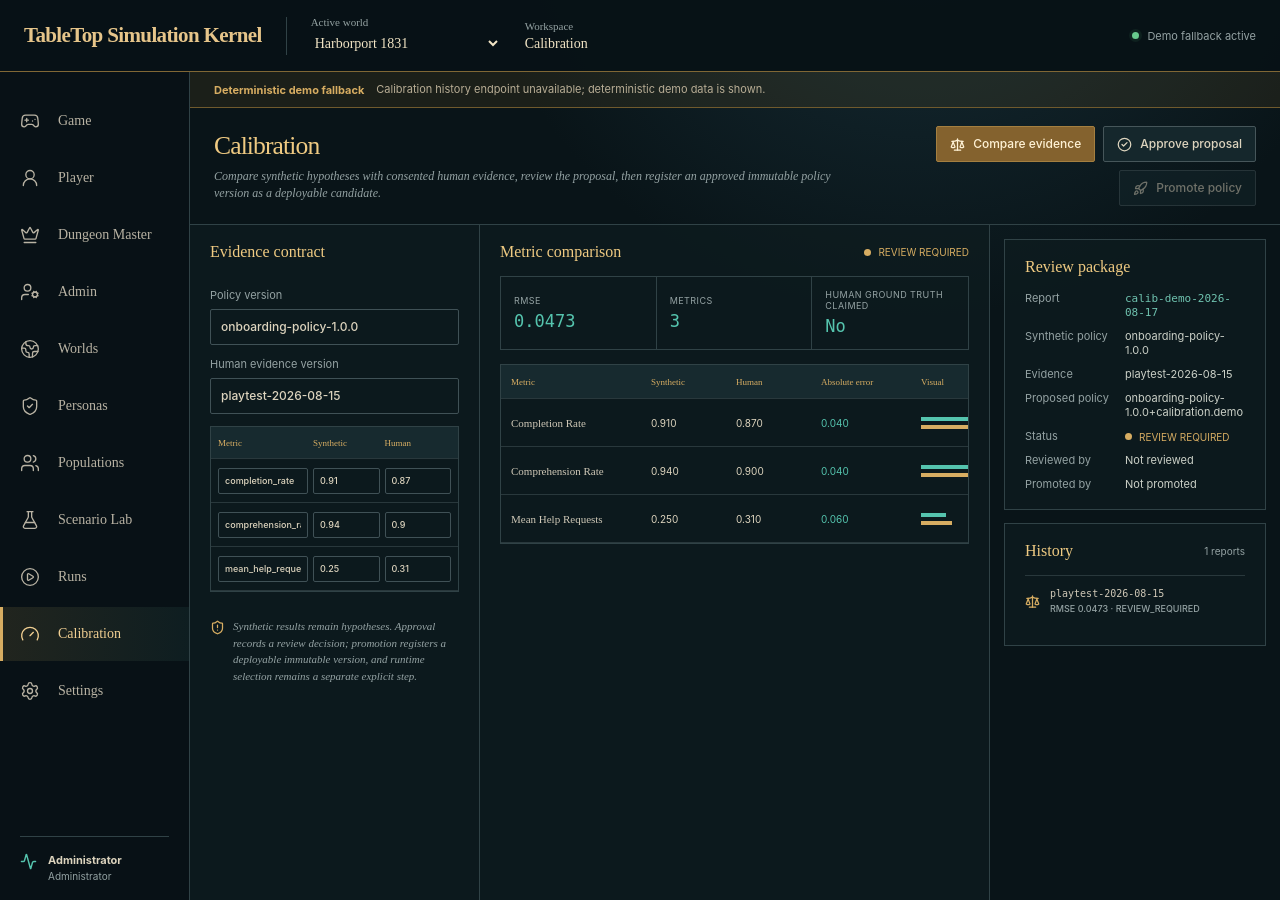
simulation kernel application journeys › reviews a calibration proposal before promoting its policy
The width and height of the screenshot is (1280, 900).
Expected: the heading "Calibration" is shown, [214,131,319,160]
Expected: the button "Promote policy" is disabled, [1119,170,1256,206]
Click the button "Approve proposal" at coordinates (1180, 144), box [1103,126,1256,162]
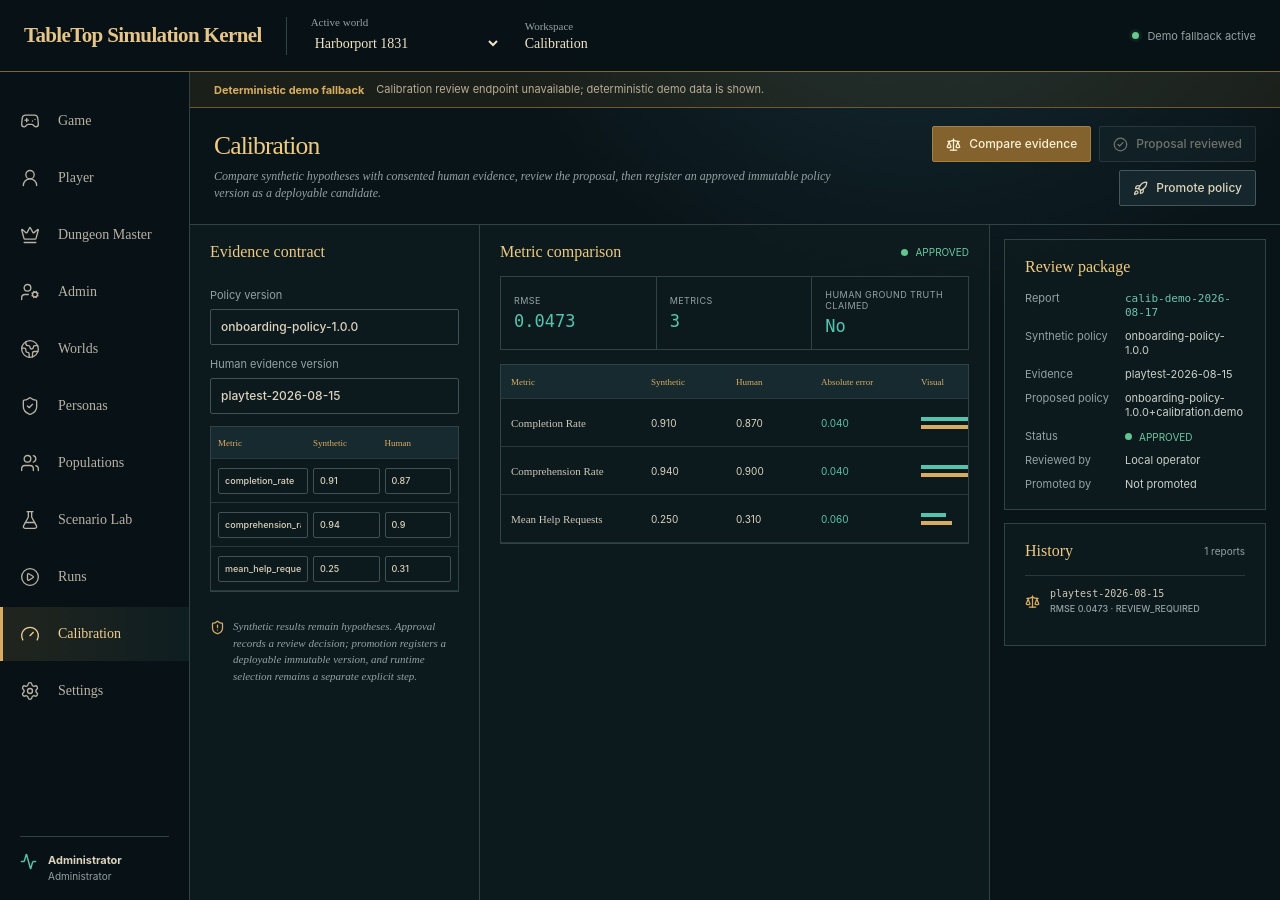
Expected: the button "Proposal reviewed" is disabled, [1099,126,1256,162]
Expected: the button "Promote policy" is enabled
Click the button "Promote policy" at coordinates (1188, 188), box [1119,170,1256,206]
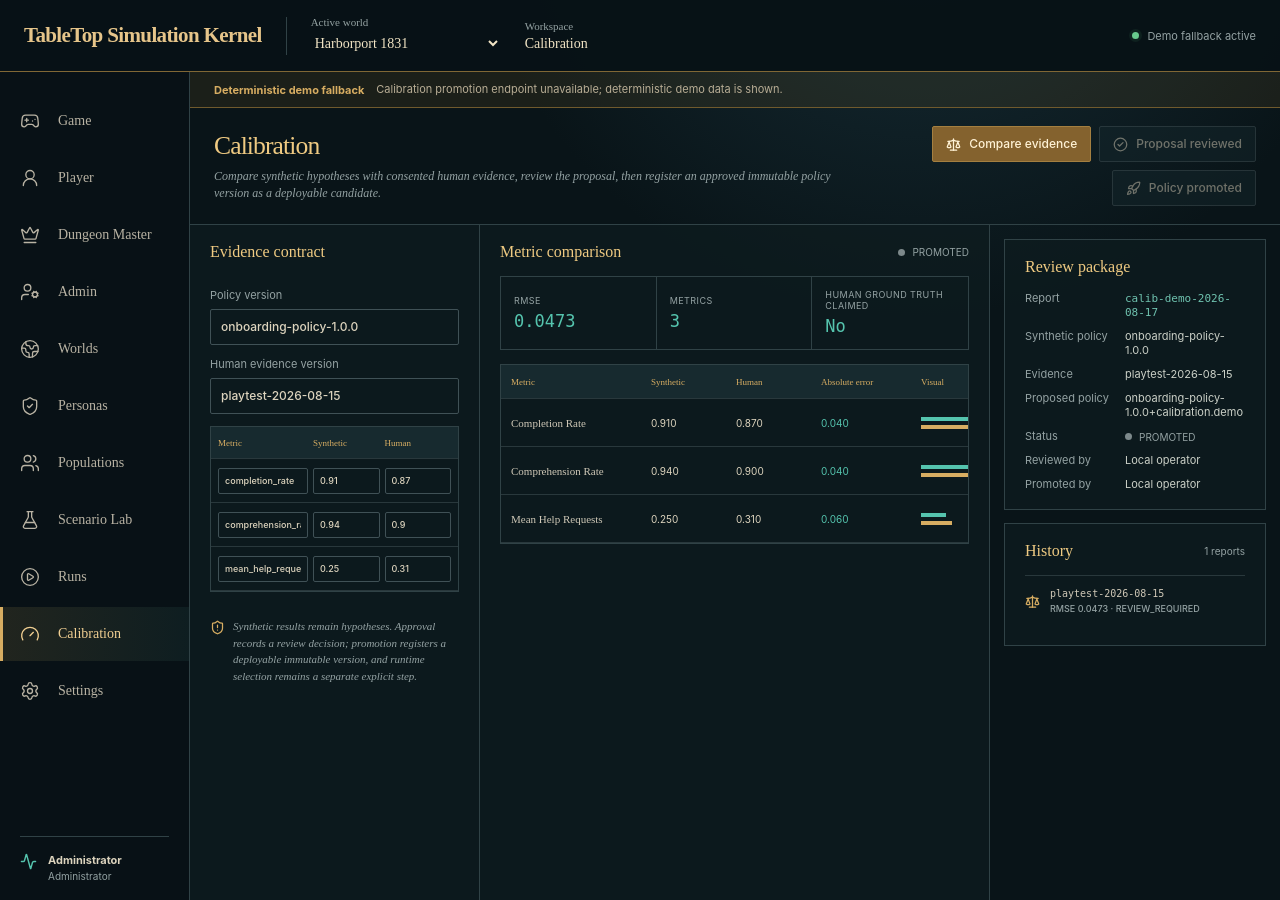
Expected: the button "Policy promoted" is disabled, [1112,170,1256,206]
